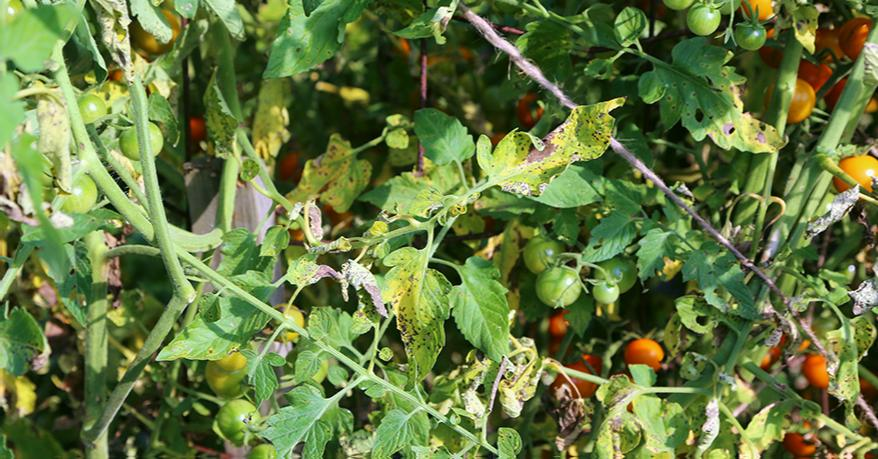Tomato Early blight leaf: (472, 98, 629, 202), (639, 44, 778, 155), (383, 250, 452, 380), (267, 0, 366, 82), (161, 306, 283, 365), (292, 142, 370, 211), (361, 174, 449, 217)
Tomato leaf: (446, 261, 515, 365)
